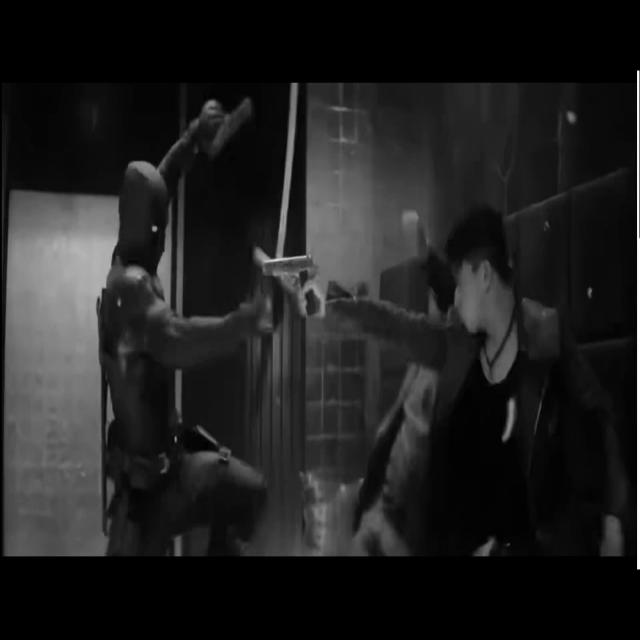weapons: (262, 220, 332, 332)
